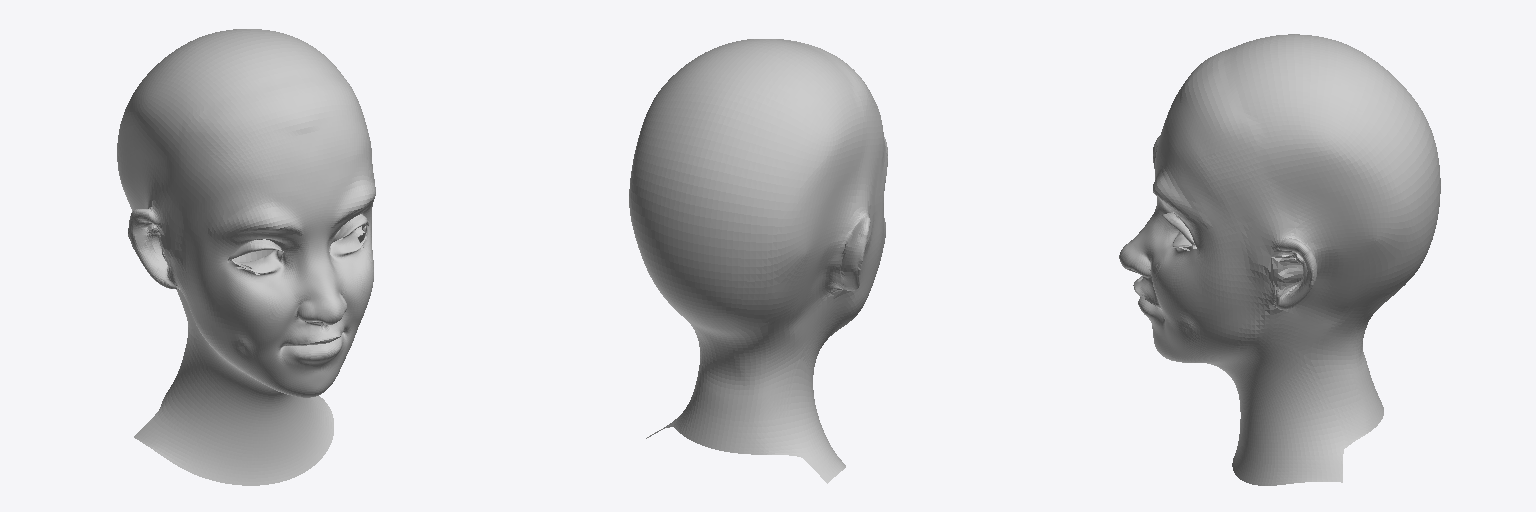
File: Snow Head.OBJ
The picture shows the model from 3 angles: view 1: azimuth 30°, elevation 25°; view 2: azimuth 150°, elevation 25°; view 3: azimuth 270°, elevation 25°; orthographic projection.
Visible parts, largest first — view 1: Body_Base1; view 2: Body_Base1; view 3: Body_Base1.
Boxes of the visible parts, x1=… form: Body_Base1: x1=117, y1=29, x2=375, y2=485; Body_Base1: x1=629, y1=39, x2=887, y2=483; Body_Base1: x1=1119, y1=34, x2=1440, y2=485.
Size of the model in its own units: 1.79 by 3.18 by 2.22.